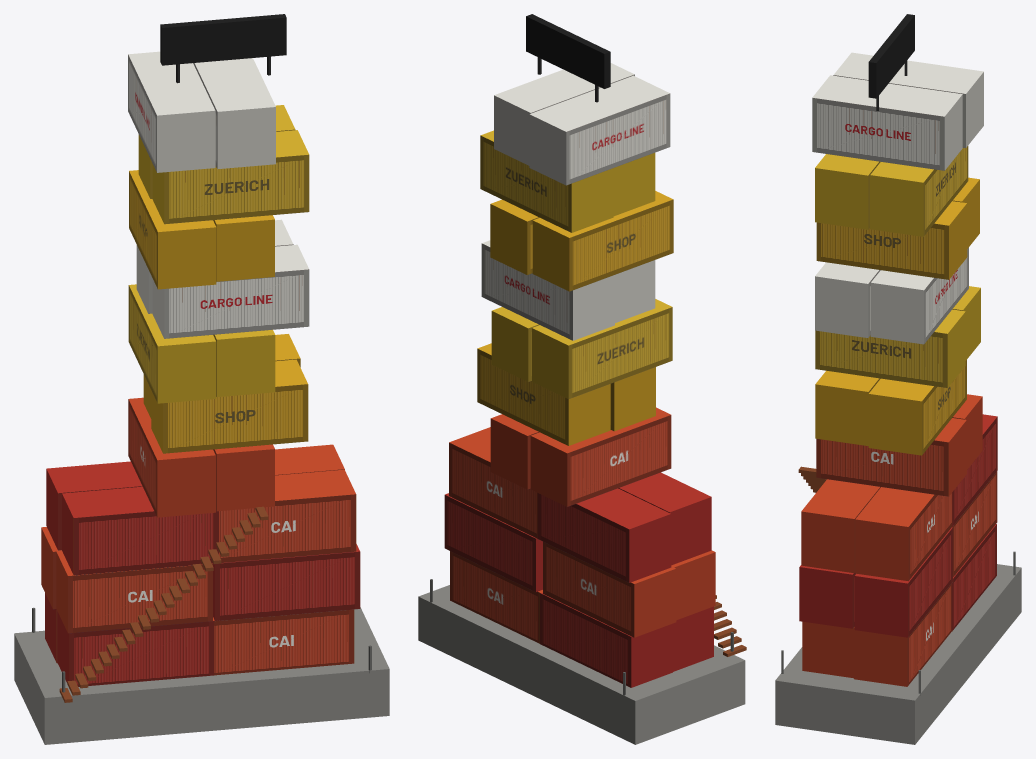
File: freitag_turm.glb
3 renders of one model, left to right at view 1: azimuth 30°, elevation 25°; view 2: azimuth 150°, elevation 25°; view 3: azimuth 270°, elevation 25°, orthographic. The views are drawn at different scales.
Parts seen in each view (by area): view 1: freitag_turm; view 2: freitag_turm; view 3: freitag_turm.
Part boxes in pixels (x1,y1,x2,y2): freitag_turm: [14, 14, 389, 744]; freitag_turm: [418, 14, 746, 744]; freitag_turm: [775, 14, 1021, 744].
Size of the model in its own units: 15.69 by 30.5 by 10.68.
Materials: 2 (2 with a texture image).
